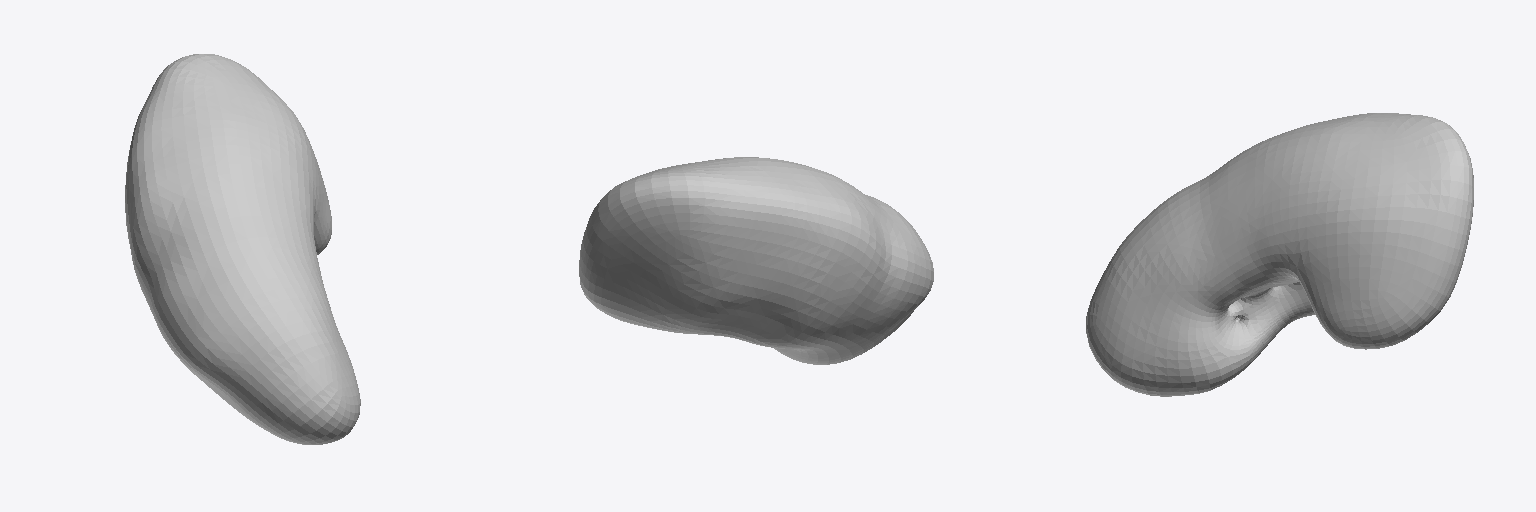
The model's file is 8K_Kidney_Left.OBJ.
The picture shows the model from 3 angles: view 1: azimuth 30°, elevation 25°; view 2: azimuth 150°, elevation 25°; view 3: azimuth 270°, elevation 25°; orthographic projection.
Visible parts, largest first — view 1: ZBrushPolyMesh3D; view 2: ZBrushPolyMesh3D; view 3: ZBrushPolyMesh3D.
Boxes of the visible parts, box(x1,y1,x2,y2) form: ZBrushPolyMesh3D: box(125, 54, 360, 444); ZBrushPolyMesh3D: box(579, 157, 933, 364); ZBrushPolyMesh3D: box(1086, 113, 1473, 396).
Size of the model in its own units: 9.3 by 10.14 by 13.09.